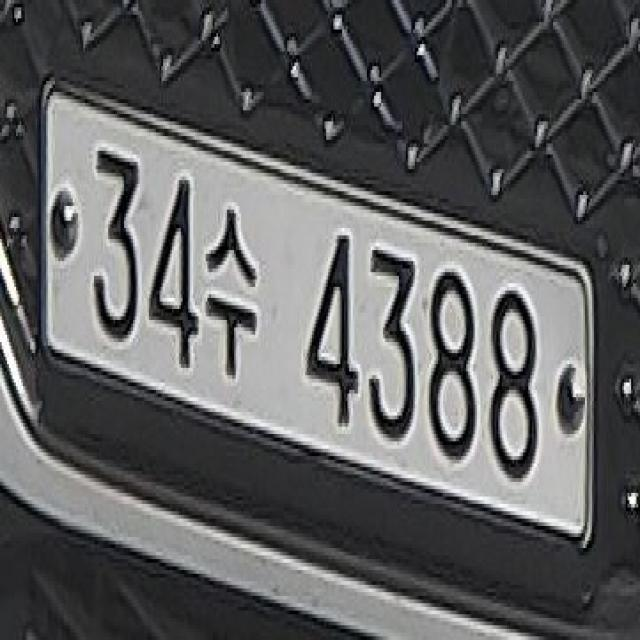3: (87, 136, 142, 350), (365, 242, 417, 448)
4: (146, 169, 200, 372), (307, 224, 360, 430)
8: (422, 261, 479, 467), (487, 276, 539, 489)
license_plate: (42, 77, 598, 559)
su: (200, 206, 262, 383)
